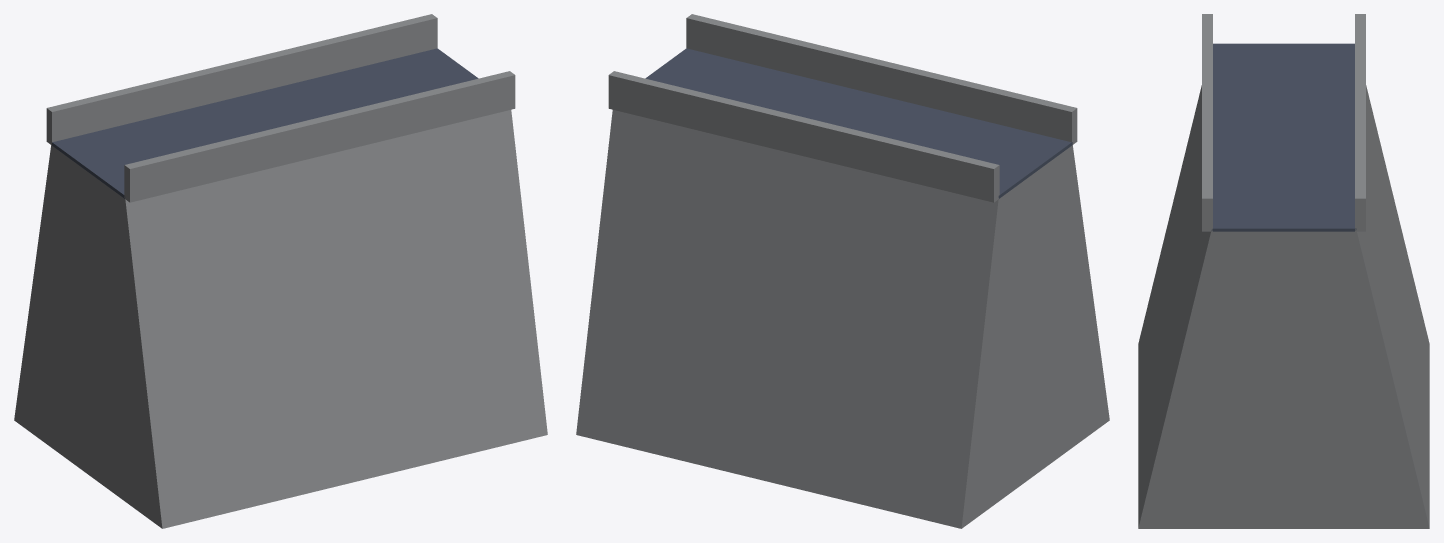
The model's file is dam_section.glb.
3 renders of one model, left to right at view 1: azimuth 30°, elevation 25°; view 2: azimuth 150°, elevation 25°; view 3: azimuth 270°, elevation 25°, orthographic.
Parts seen in each view (by area): view 1: model; view 2: model; view 3: model.
Boxes of the visible parts, <box> form: model: <box>14,14,547,528</box>; model: <box>576,14,1109,528</box>; model: <box>1138,14,1429,528</box>.
Size of the model in its own units: 12 by 10 by 8.
